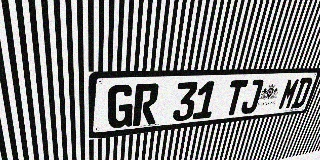1: (192, 81, 218, 120)
3: (172, 82, 199, 122)
D: (290, 77, 314, 109)
G: (107, 84, 135, 129)
J: (239, 79, 264, 114)
M: (277, 78, 301, 110)
R: (133, 83, 160, 126)
T: (223, 80, 248, 116)
